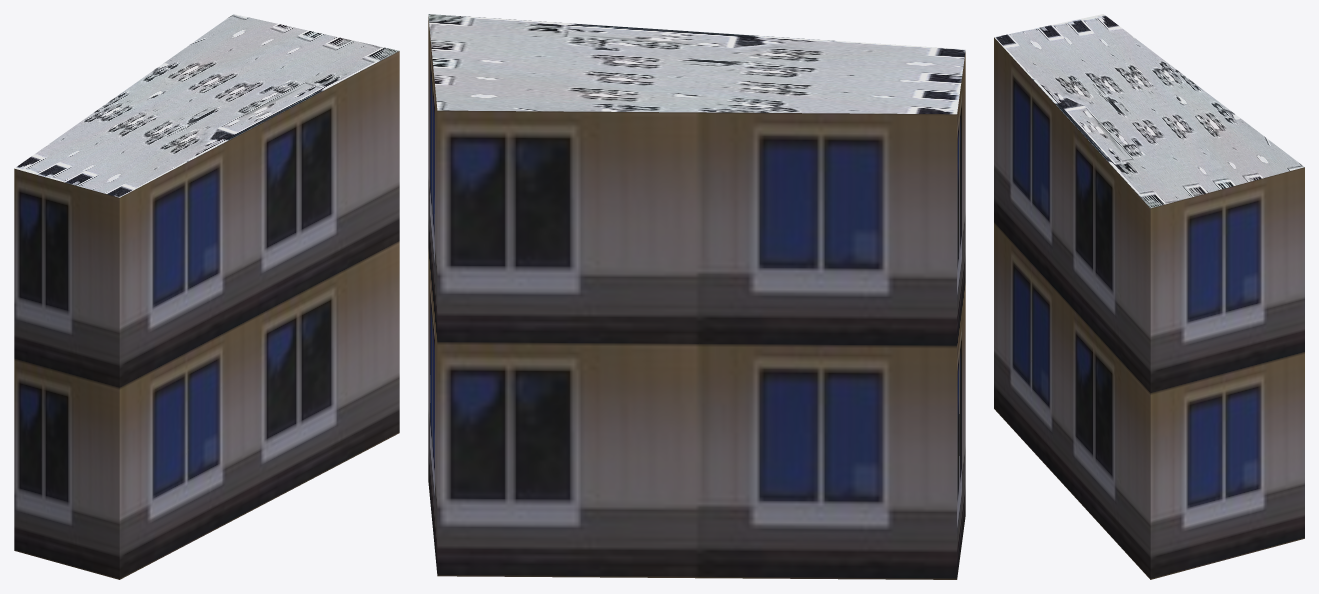
The model's file is ResTex__5339.fbx.
The picture shows the model from 3 angles, left to right: view 1: azimuth 30°, elevation 25°; view 2: azimuth 150°, elevation 25°; view 3: azimuth 270°, elevation 25°; orthographic projection. The views are drawn at different scales.
Parts seen in each view (by area): view 1: CityEngineMaterial_5_m, CityEngineMaterial_8_m; view 2: CityEngineMaterial_5_m, CityEngineMaterial_8_m; view 3: CityEngineMaterial_5_m, CityEngineMaterial_8_m.
Part boxes in pixels (left/top/right/bottom): CityEngineMaterial_5_m: left=14, top=51, right=399, bottom=579; CityEngineMaterial_8_m: left=14, top=14, right=399, bottom=197; CityEngineMaterial_5_m: left=428, top=17, right=965, bottom=579; CityEngineMaterial_8_m: left=428, top=14, right=965, bottom=114; CityEngineMaterial_5_m: left=994, top=37, right=1304, bottom=579; CityEngineMaterial_8_m: left=994, top=14, right=1304, bottom=208.
Size of the model in its own units: 6.73 by 6 by 4.55.
2 materials, 2 textured.
